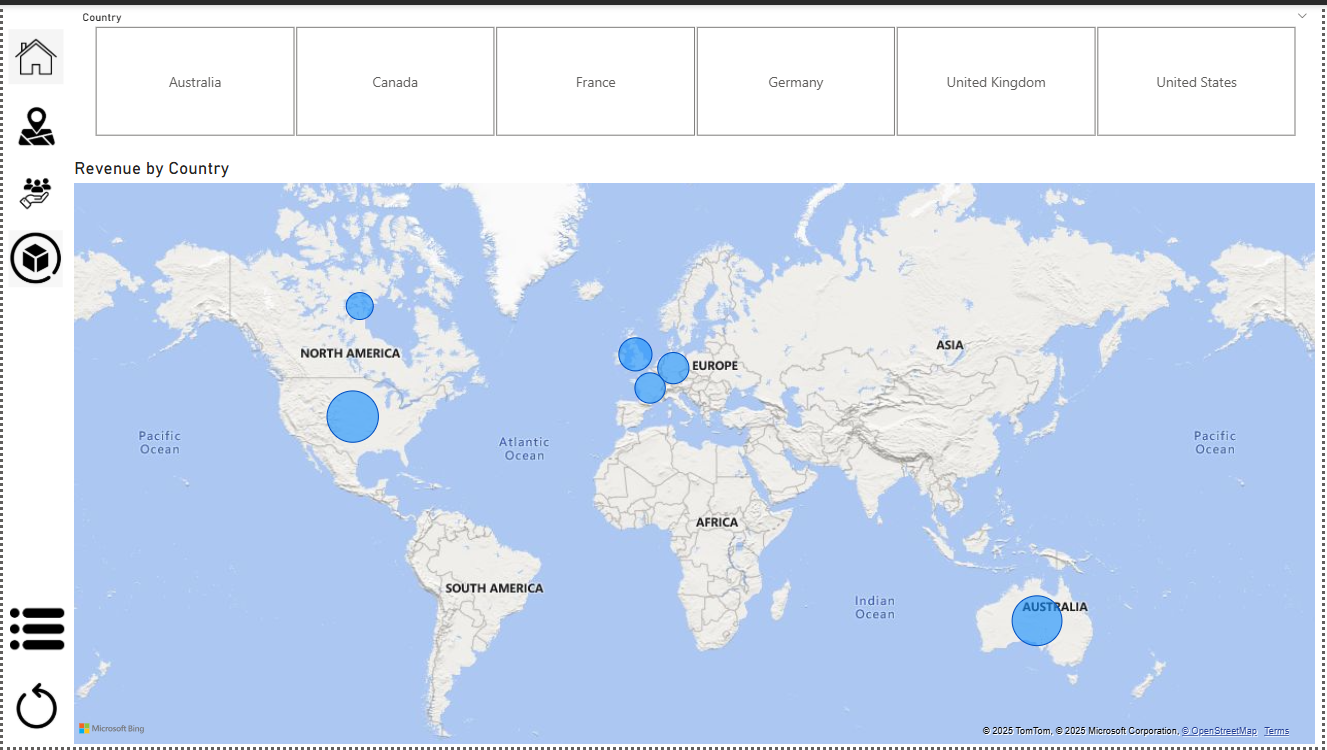

The page's visual inventory and layout, read from the dashboard file:
{"tool":"powerbi","page":{"name":"Map","canvas":[1280,720],"ordinal":2},"visuals":[{"type":"map","title":"Revenue by Country","fields":{"Category":["Territory Lookup.Country"],"Size":["Measure.total Revenue"]},"box":[64.3,148.2,1214.3,573.2],"z":0},{"type":"image","box":[0,17.9,63.4,65.1],"z":1000},{"type":"slicer","fields":{"Values":["Territory Lookup.Country"]},"box":[64.3,0,1214.3,133.9],"z":2000},{"type":"image","box":[0,644.1,64.8,72.9],"z":3000},{"type":"image","box":[2,569.1,62.8,72.9],"z":4000},{"type":"image","box":[0,212.7,62.8,66.8],"z":5000},{"type":"image","box":[0,83,64.8,68.9],"z":6000},{"type":"image","box":[0,151.9,62.8,60.8],"z":7000}]}

Visuals, with their boxes on the page's 1280x720 design canvas (x1, y1, x2, y2). These are canvas units, not pixel positions in the 1327x750 screenshot, which may show the page scaled, cropped or inside an application window:
"Revenue by Country" map: [left=64, top=148, right=1279, bottom=721]
image: [left=0, top=18, right=63, bottom=83]
slicer - Territory Lookup.Country: [left=64, top=0, right=1279, bottom=134]
image: [left=0, top=644, right=65, bottom=717]
image: [left=2, top=569, right=65, bottom=642]
image: [left=0, top=213, right=63, bottom=280]
image: [left=0, top=83, right=65, bottom=152]
image: [left=0, top=152, right=63, bottom=213]
